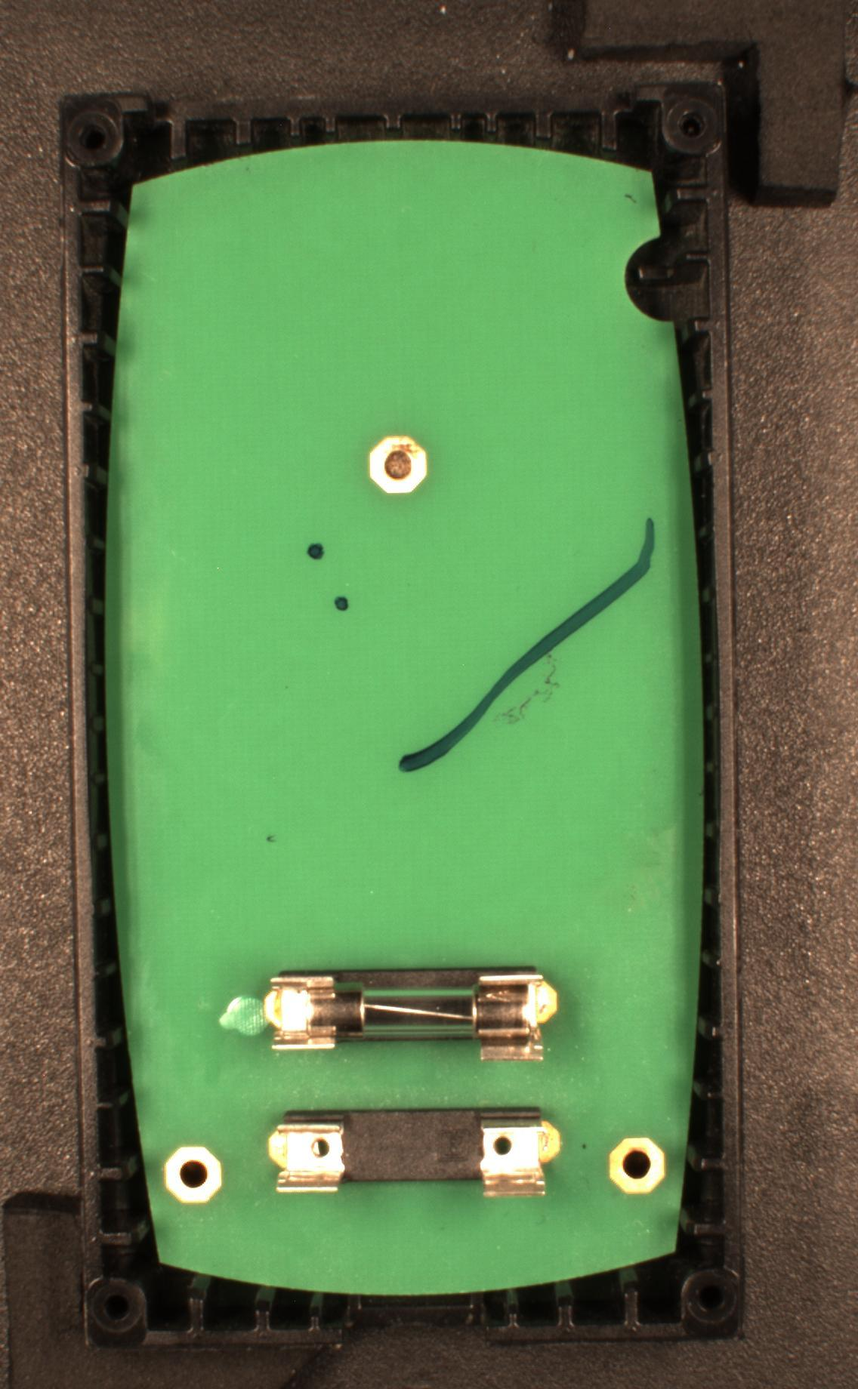Linijsko Ostecene: (394, 516, 657, 775)
Nepostojanje osiguraca: (267, 1105, 563, 1200)
Tockasto Ostecenje: (305, 541, 326, 561), (334, 594, 349, 612)
